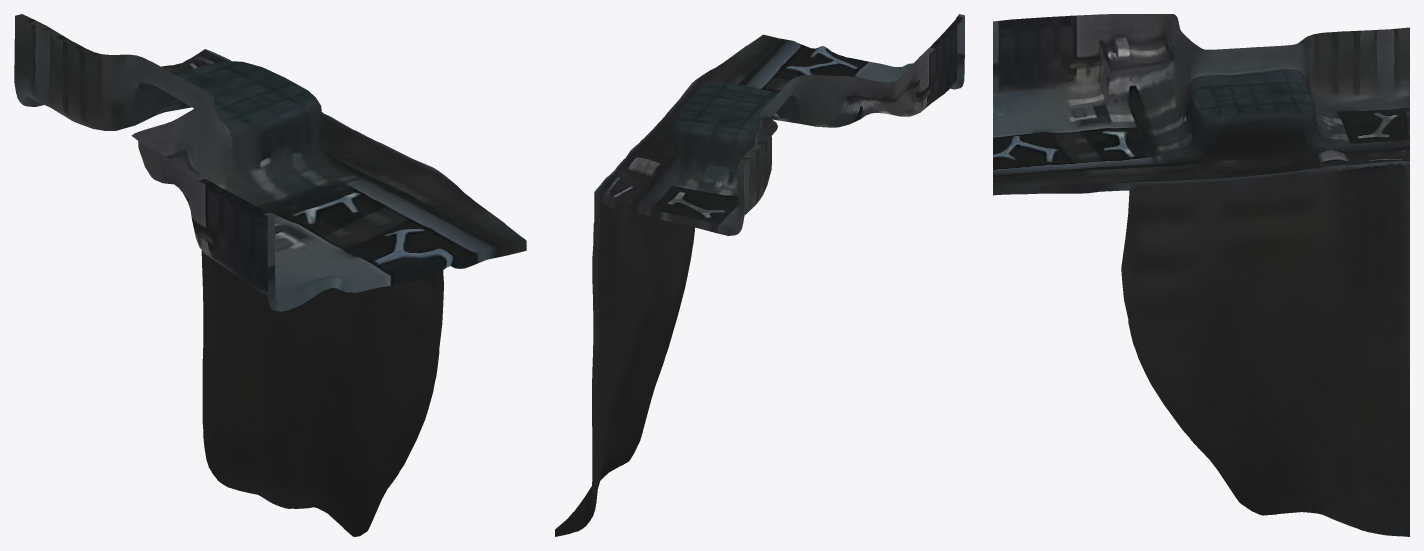
File: z20-167766-405239-h0-yup-uvflip-v3-world.glb
3 views of the same model, side by side, from view 1: azimuth 30°, elevation 25°; view 2: azimuth 150°, elevation 25°; view 3: azimuth 270°, elevation 25° (orthographic). The views are drawn at different scales.
Size of the model in its own units: 18.16 by 33.52 by 30.32.
1 material, 1 textured.
